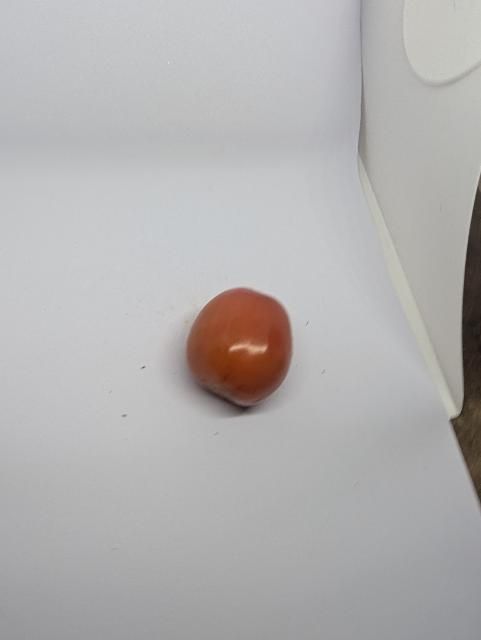red: (185, 287, 296, 410)
